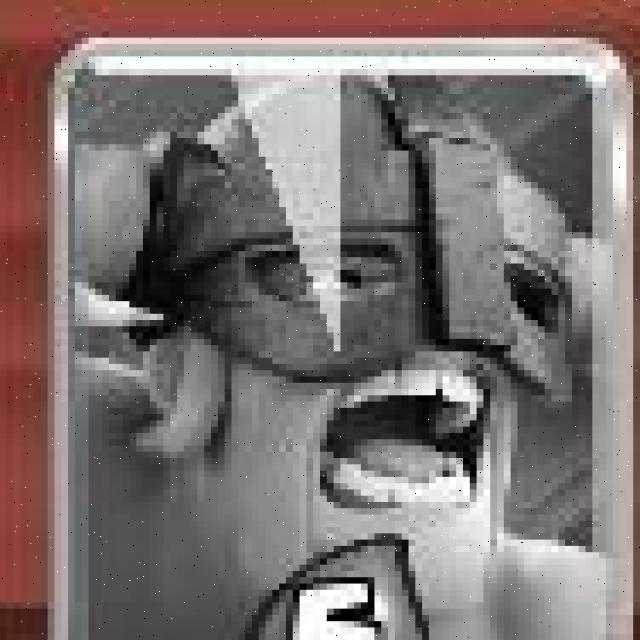Elite_Barbarians: (47, 40, 628, 640)
